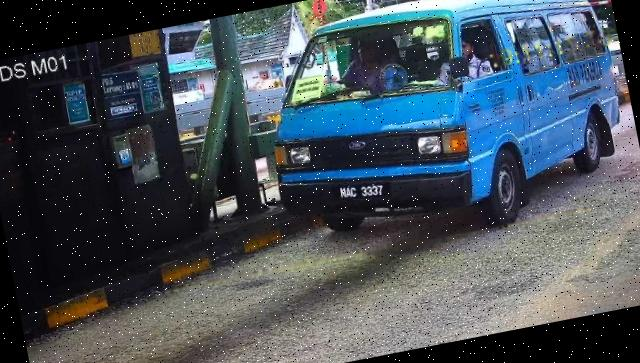License_Plate: (333, 176, 392, 208)
van: (249, 1, 640, 265)
